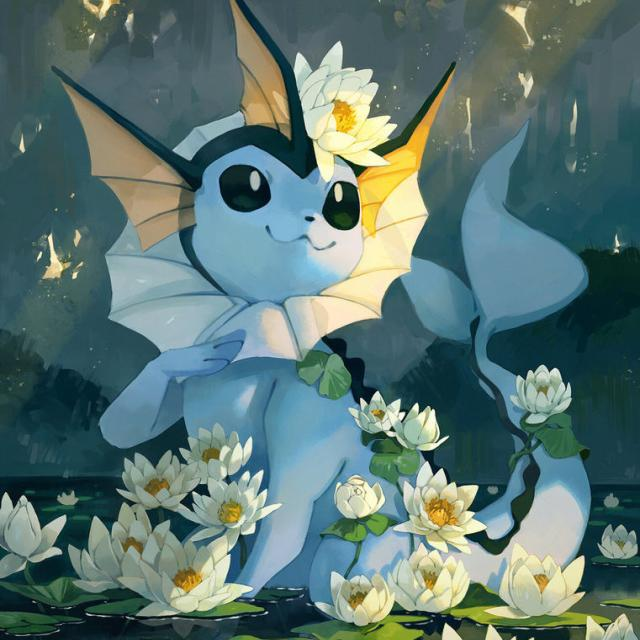Vaporeon: (92, 70, 439, 433)
